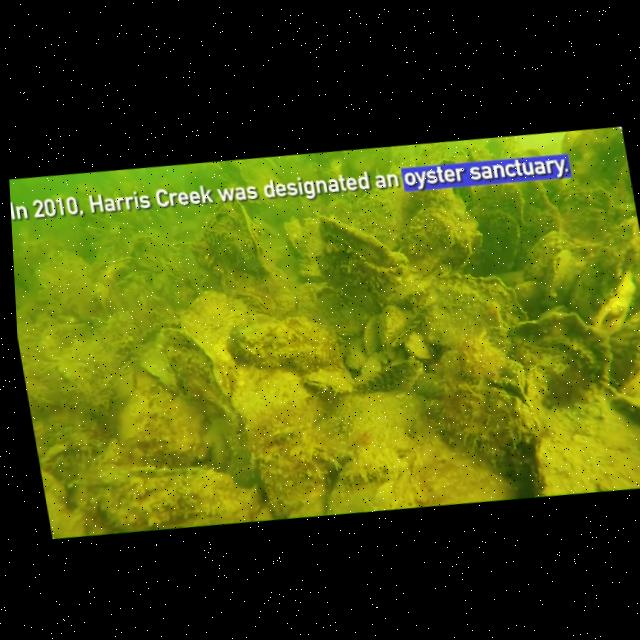Oyster-Closed: (184, 185, 274, 291), (535, 247, 589, 306)
Oyster-Indeterminate: (77, 444, 267, 542), (416, 364, 550, 495), (397, 254, 534, 355), (498, 301, 621, 395), (154, 322, 241, 427), (233, 364, 322, 448), (394, 198, 480, 275), (167, 269, 249, 346), (223, 310, 302, 372), (379, 174, 466, 222), (104, 388, 165, 452), (581, 270, 640, 336), (30, 250, 99, 305), (111, 267, 173, 327), (467, 176, 530, 234), (515, 225, 581, 279), (368, 295, 417, 363), (594, 207, 640, 274), (476, 208, 523, 270), (127, 223, 179, 276), (85, 245, 144, 285), (504, 270, 554, 314), (603, 386, 640, 445), (155, 255, 199, 299), (108, 363, 142, 404), (359, 311, 388, 354), (339, 336, 372, 373), (399, 330, 434, 364), (89, 378, 115, 417)
Oyster-Open: (307, 208, 419, 312), (550, 122, 633, 198), (303, 359, 362, 406), (230, 284, 279, 323), (297, 444, 348, 481), (38, 438, 75, 471)
